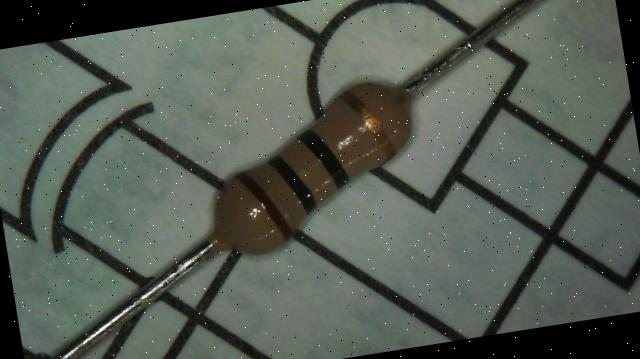black: (305, 118, 345, 191), (276, 152, 308, 212)
brown: (237, 168, 292, 242)
gold: (349, 76, 396, 162)
resistor: (161, 44, 444, 295)
